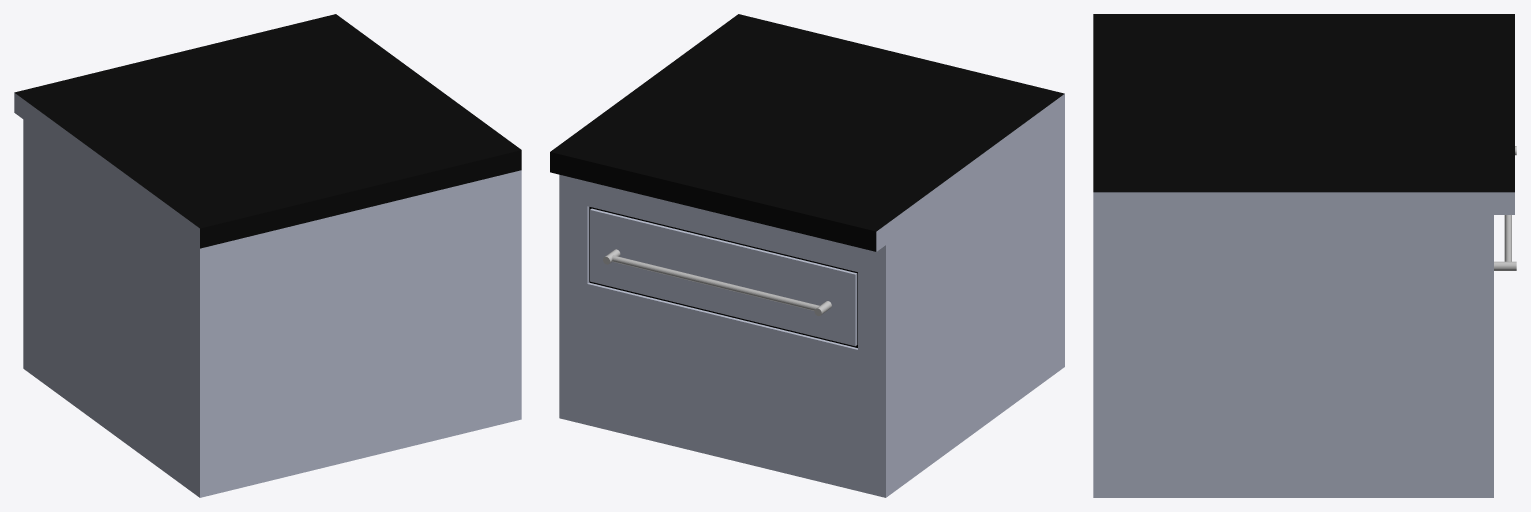
Rendered from Def drawer.fbx.
The picture shows the model from 3 angles, left to right: view 1: azimuth 30°, elevation 25°; view 2: azimuth 150°, elevation 25°; view 3: azimuth 270°, elevation 25°; orthographic projection. The views are drawn at different scales.
Parts seen in each view (by area): view 1: Cube.005; view 2: Cube.005; view 3: Cube.005.
Boxes of the visible parts, x1,y1,x2,y2 form: Cube.005: (14,14,521,497); Cube.005: (550,14,1064,497); Cube.005: (1093,14,1516,497).
Size of the model in its own units: 200 by 160 by 201.
